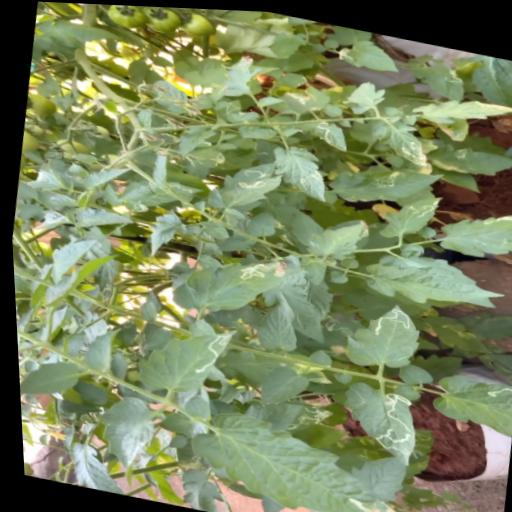Leaf_Miner: (176, 402, 417, 512), (125, 306, 238, 402), (165, 236, 285, 325), (328, 374, 420, 464), (323, 147, 445, 214), (335, 289, 423, 371), (422, 365, 512, 432), (433, 195, 512, 263), (237, 389, 332, 441), (117, 169, 203, 222), (372, 180, 444, 243), (422, 134, 512, 180), (264, 140, 331, 198), (365, 107, 432, 163), (214, 159, 282, 211), (214, 149, 276, 201), (406, 52, 467, 98), (334, 31, 402, 70), (177, 139, 226, 181), (278, 77, 332, 114), (309, 115, 350, 148)
